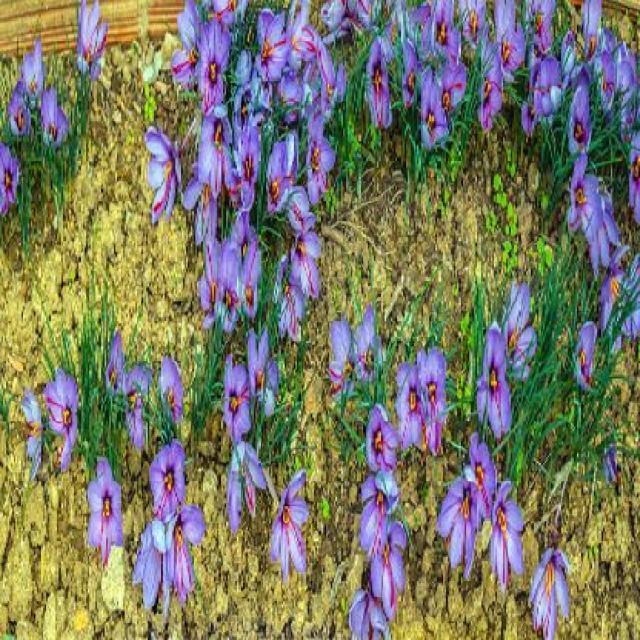Flower: (270, 469, 319, 578), (528, 519, 574, 630), (472, 318, 511, 442), (141, 124, 184, 222), (87, 453, 124, 565), (490, 482, 527, 590), (432, 470, 474, 564), (43, 369, 80, 474), (566, 150, 600, 247), (146, 432, 188, 510), (390, 352, 424, 448), (75, 0, 111, 85), (363, 32, 394, 130), (418, 65, 448, 152), (304, 125, 338, 201), (37, 78, 71, 153)
stigma: (146, 154, 178, 220), (379, 550, 398, 608), (545, 559, 561, 621)
